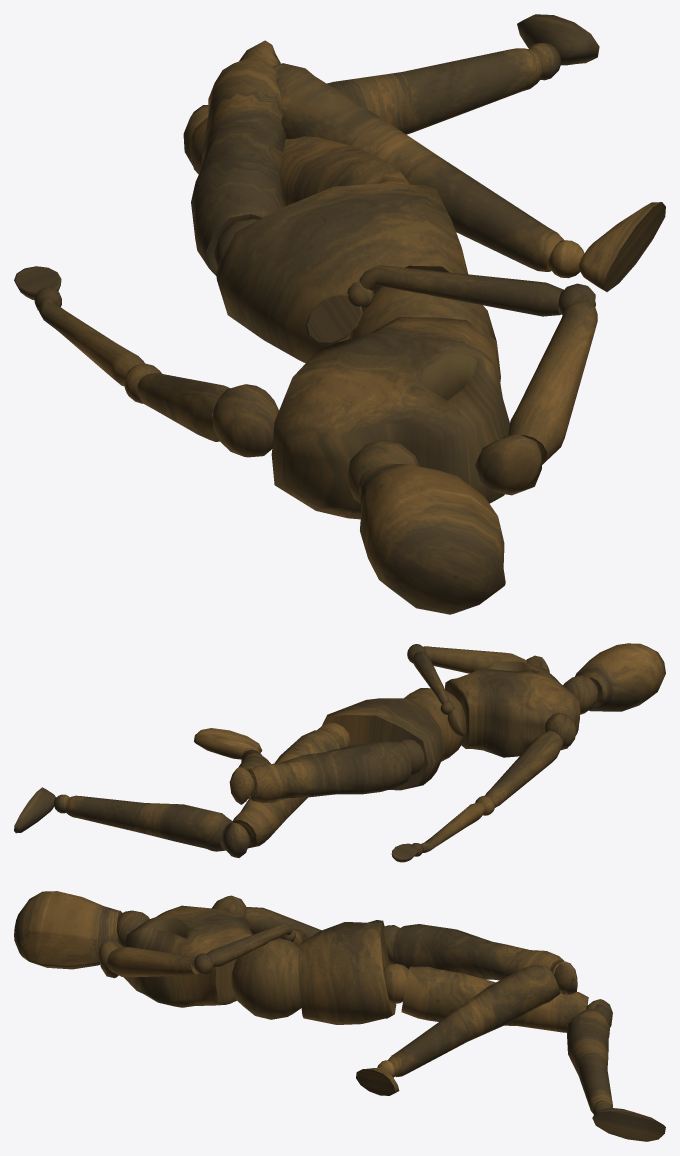
Rendered from maniqui_pose4.fbx.
The picture shows the model from 3 angles, top to bottom: view 1: azimuth 30°, elevation 25°; view 2: azimuth 150°, elevation 25°; view 3: azimuth 270°, elevation 25°; orthographic projection. The views are drawn at different scales.
Parts seen in each view (by area): view 1: dummy_obj.003; view 2: dummy_obj.003; view 3: dummy_obj.003.
Part boxes in pixels (box(x1,y1,x2,y2)): dummy_obj.003: box(14, 14, 665, 614); dummy_obj.003: box(14, 643, 665, 862); dummy_obj.003: box(14, 891, 665, 1141).
Size of the model in its own units: 90.51 by 19.79 by 129.
